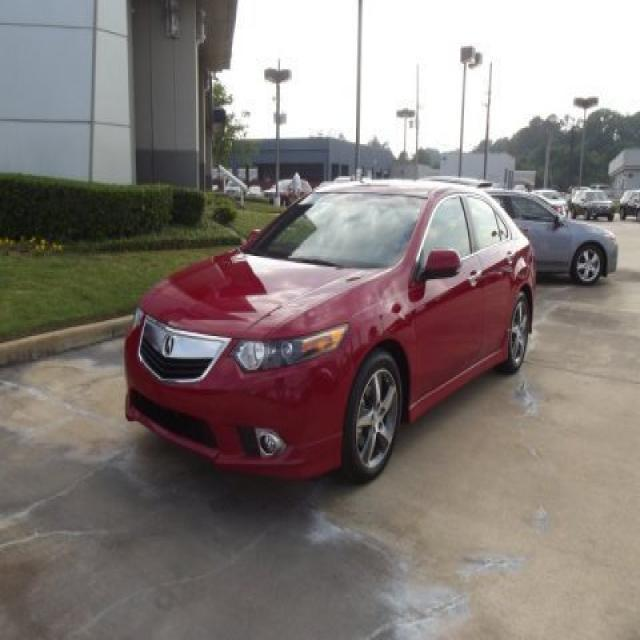car: (120, 168, 542, 486), (477, 192, 619, 285), (570, 186, 615, 221), (532, 190, 569, 216), (619, 189, 640, 220)
